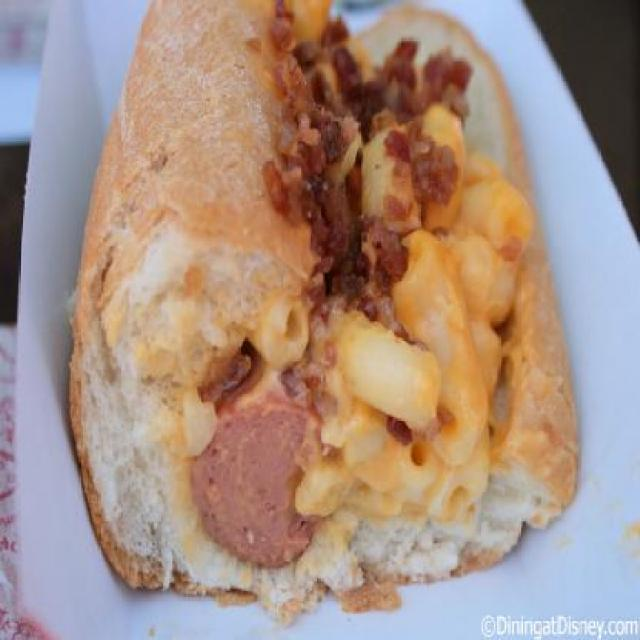hot dog: (192, 368, 326, 580)
macaroni and cheese: (305, 51, 520, 529)
